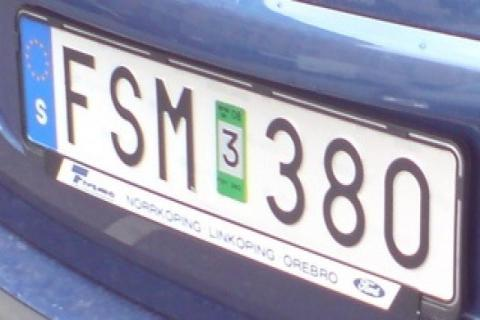LicensePlate: (7, 1, 467, 320)
